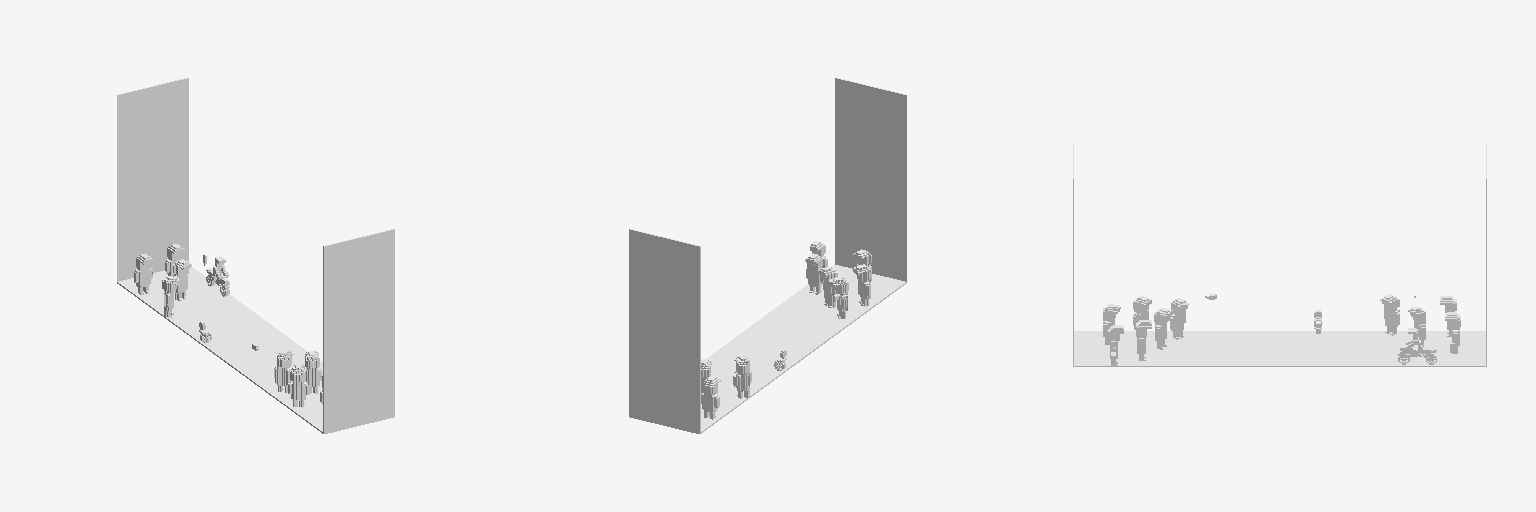
File: stage3_b.obj
3 views of the same model, side by side, from view 1: azimuth 30°, elevation 25°; view 2: azimuth 150°, elevation 25°; view 3: azimuth 270°, elevation 25° (orthographic).
Visible parts, largest first — view 1: object 1; view 2: object 1; view 3: object 1.
Boxes of the visible parts, x1,y1,x2,y2 form: object 1: [117, 78, 394, 433]; object 1: [629, 78, 906, 433]; object 1: [1073, 145, 1486, 366].
Bounding box in the file's own units: 5.1 × 12.8 × 25.6.